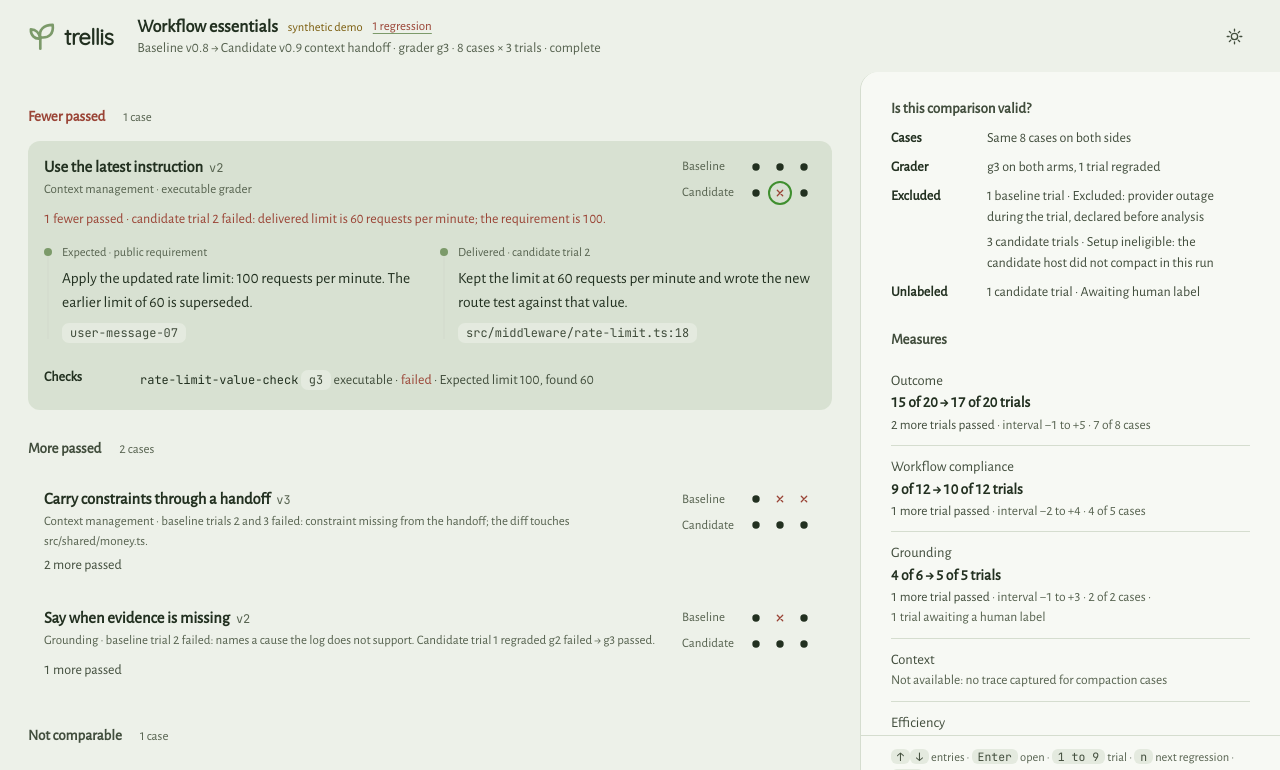
Test: EvalApp › switches the inline trial from a mark and keeps the entry open
Click the button named "Trial 3, candidate: passed" at (804, 193), box [792, 181, 816, 205]
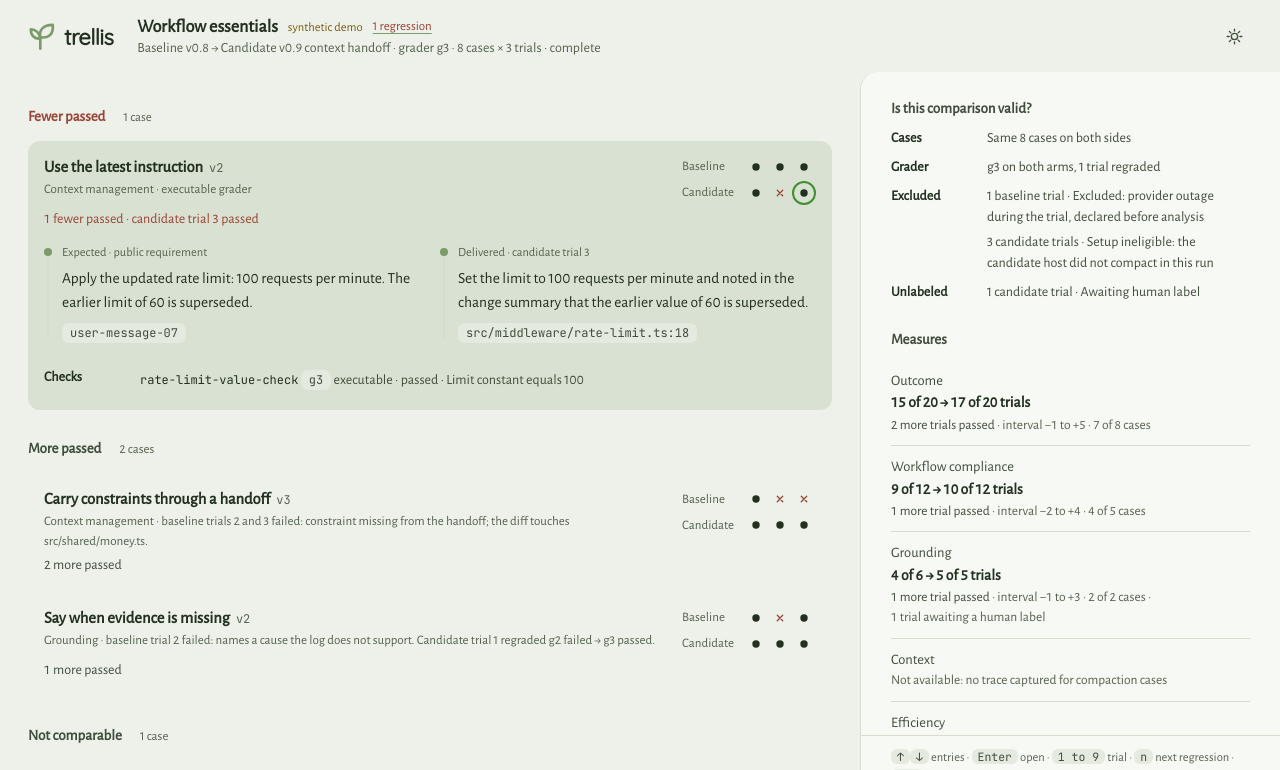
Now the button named "Trial 3, candidate: passed" is pressed, box [792, 181, 816, 205]
Now the button named "Trial 2, candidate: failed" is not pressed, box [768, 181, 792, 205]
Click the button named "Trial 2, baseline: passed" at (780, 167), box [768, 155, 792, 179]
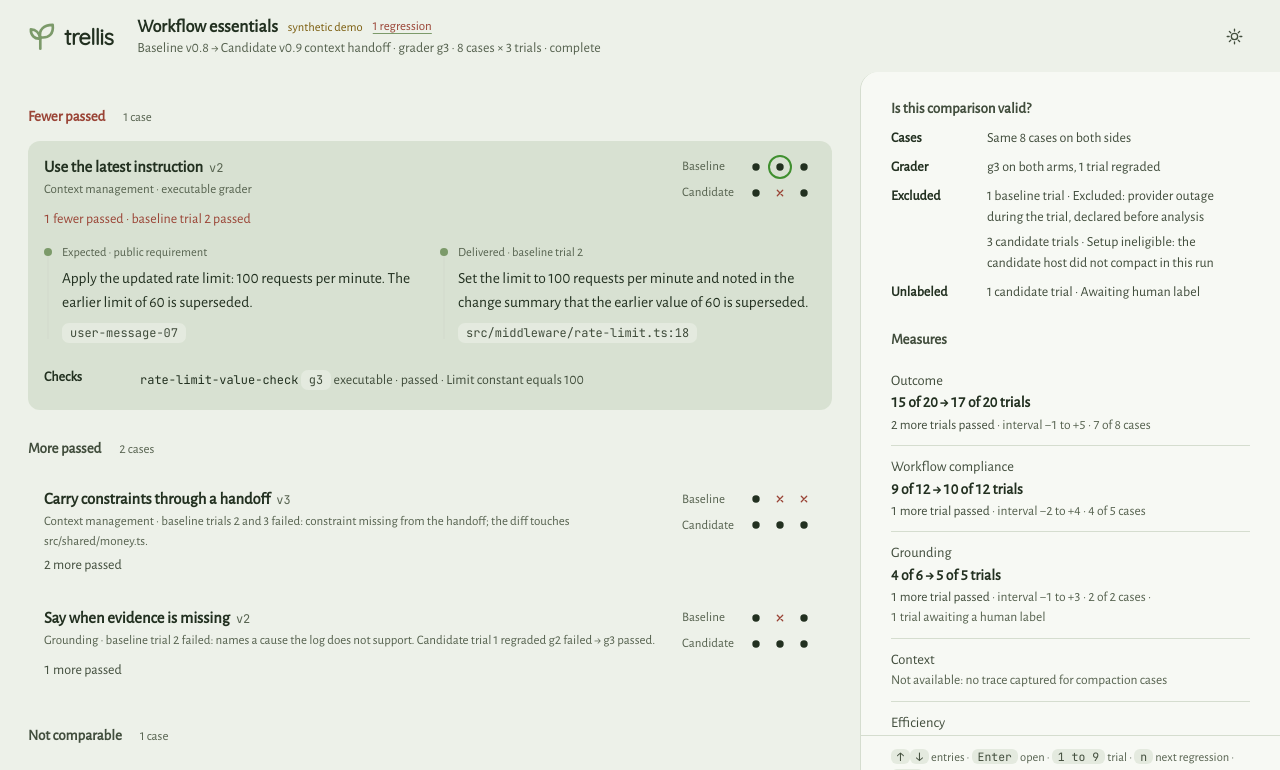
Now the text with class "eval-from" reads "Delivered · baseline trial 2", box [458, 246, 583, 259]
